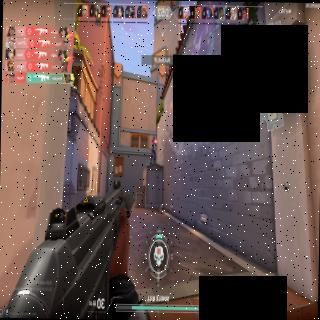ENEMY-BODY: (150, 135, 156, 165)
ENEMY-HEAD: (152, 136, 154, 142)
